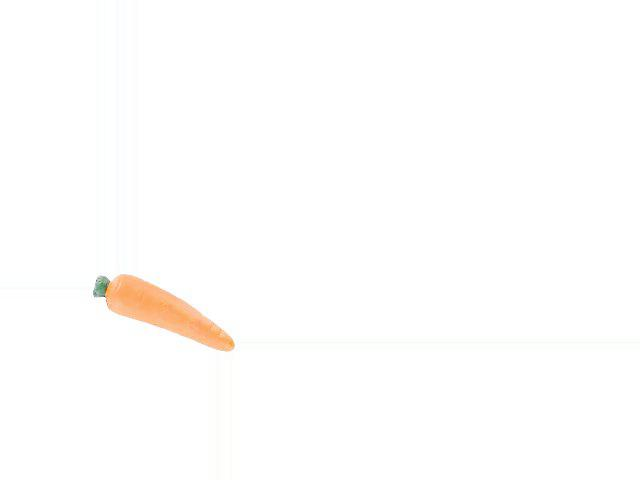carrot: (104, 275, 235, 352)
